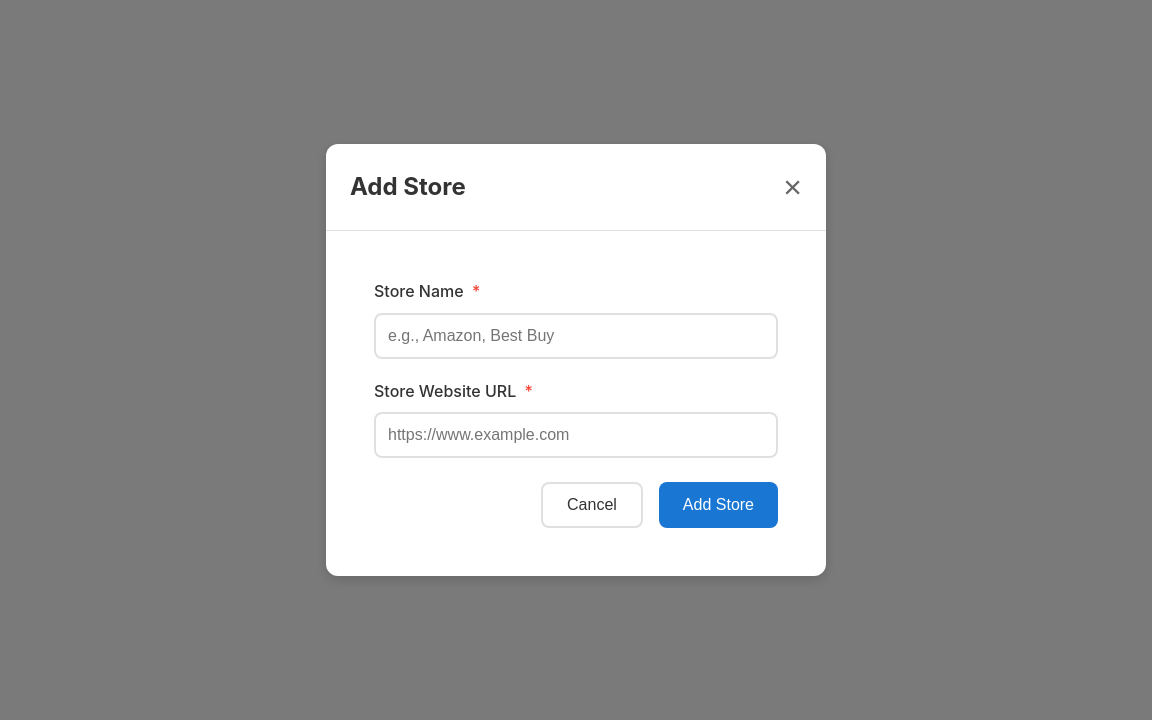
Scenario: AddStoreModal › form interaction › should show validation error when store URL is missing
Type "Test Store" into the field with id "store-name" at (576, 336), box [374,313,778,359]
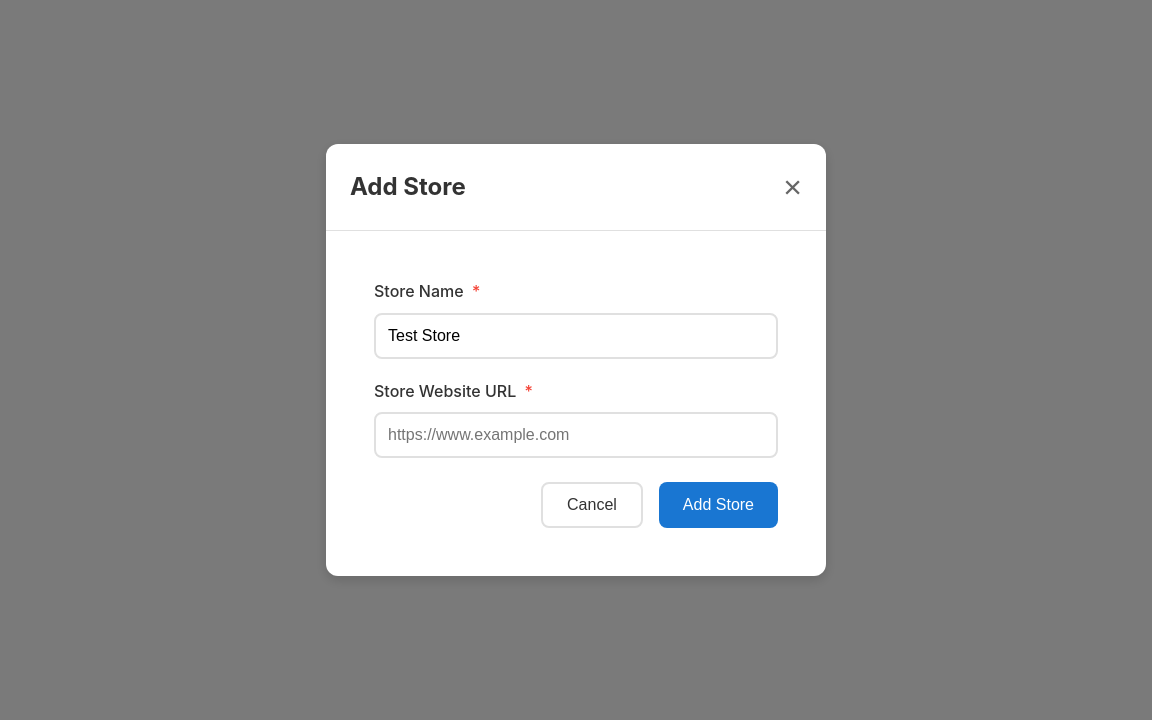
Submit the form with id "add-store-form", box [350,255,802,552]
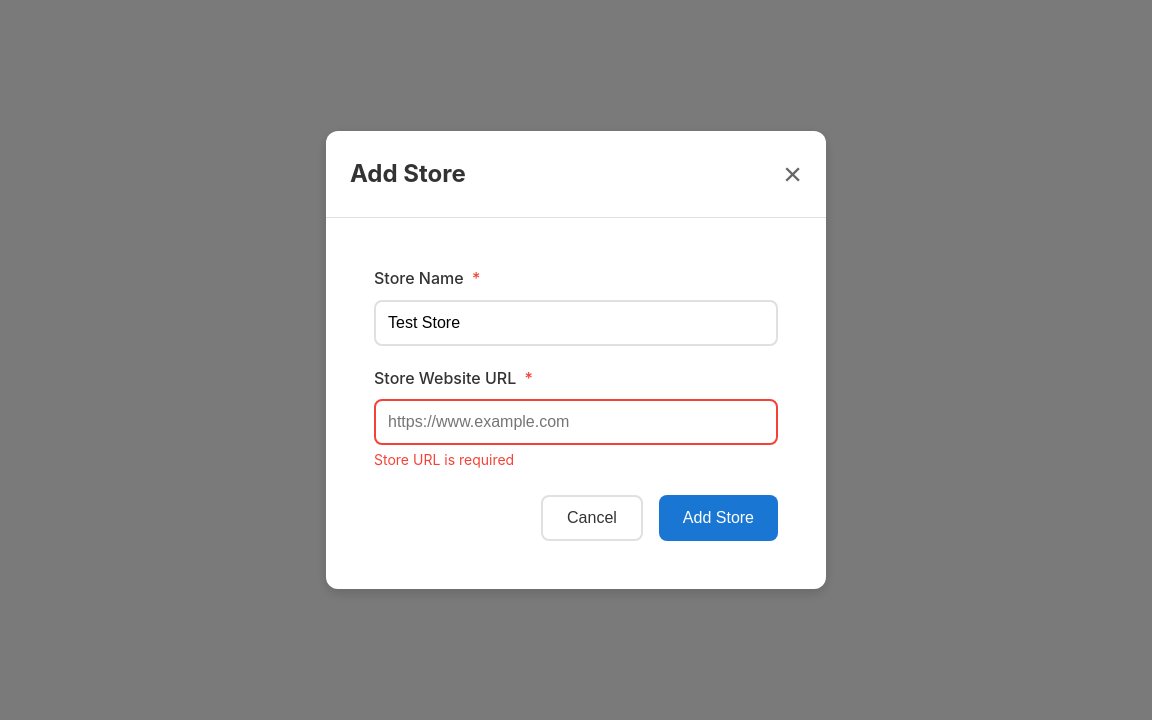
Expected: the message with id "store-url-error" reads "Store URL is required", [374,451,514,468]
